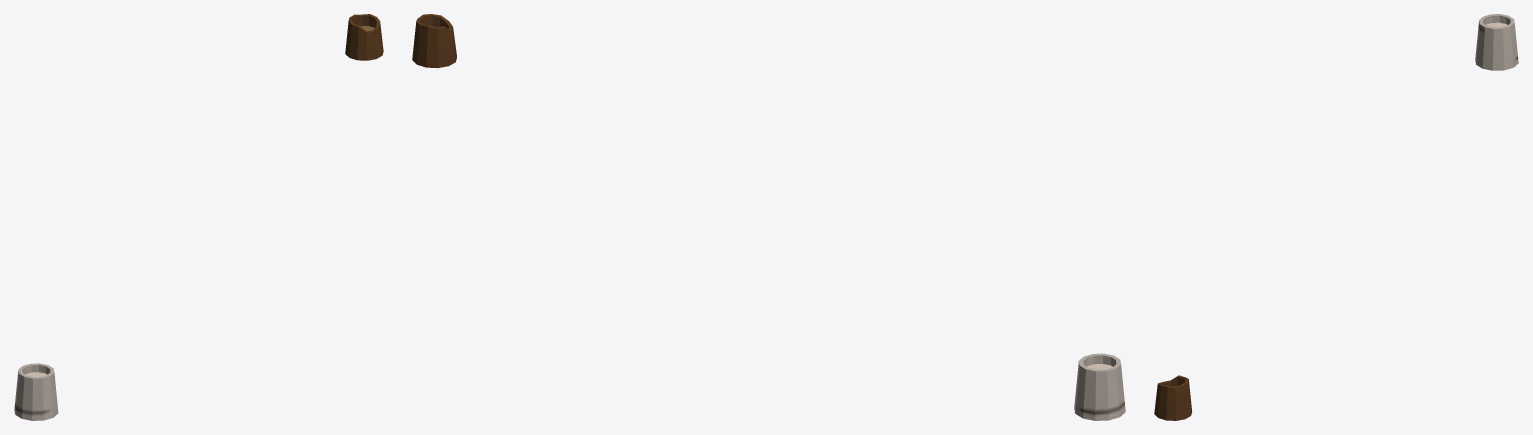
Rendered from Trunks6.gltf.
3 views of the same model, side by side, from view 1: azimuth 90°, elevation 25°; view 2: azimuth 150°, elevation 25°; view 3: azimuth 270°, elevation 25° (orthographic). The views are drawn at different scales.
Visible parts, largest first — view 1: Trunk2 - copy.010, Trunk4 - copy.002; view 2: Trunk2 - copy.010, Trunk4 - copy.002; view 3: Trunk2 - copy.010, Trunk4 - copy.002.
Part boxes in pixels (box(x1,y1,x2,y2)): Trunk2 - copy.010: box(14, 363, 58, 420); Trunk4 - copy.002: box(345, 14, 383, 60); Trunk2 - copy.010: box(1074, 353, 1125, 420); Trunk4 - copy.002: box(412, 14, 456, 68); Trunk2 - copy.010: box(1475, 14, 1518, 70); Trunk4 - copy.002: box(1154, 375, 1192, 420).
Bounding box in the file's own units: 10.89 × 0.5506 × 4.53.
2 materials, 2 textured.
